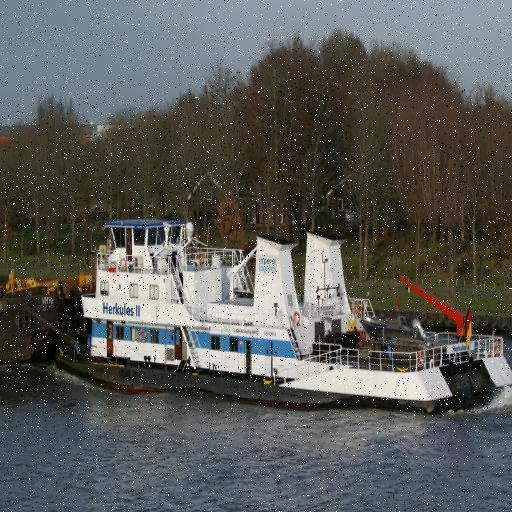tugboat: (41, 202, 512, 432)
